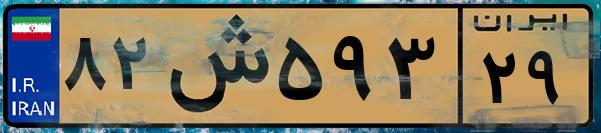2: (475, 38, 525, 113), (110, 28, 158, 98)
3: (385, 28, 445, 110)
5: (270, 28, 330, 110)
8: (57, 26, 110, 100)
9: (330, 28, 385, 110), (525, 38, 570, 115)
ش: (158, 12, 270, 120)
